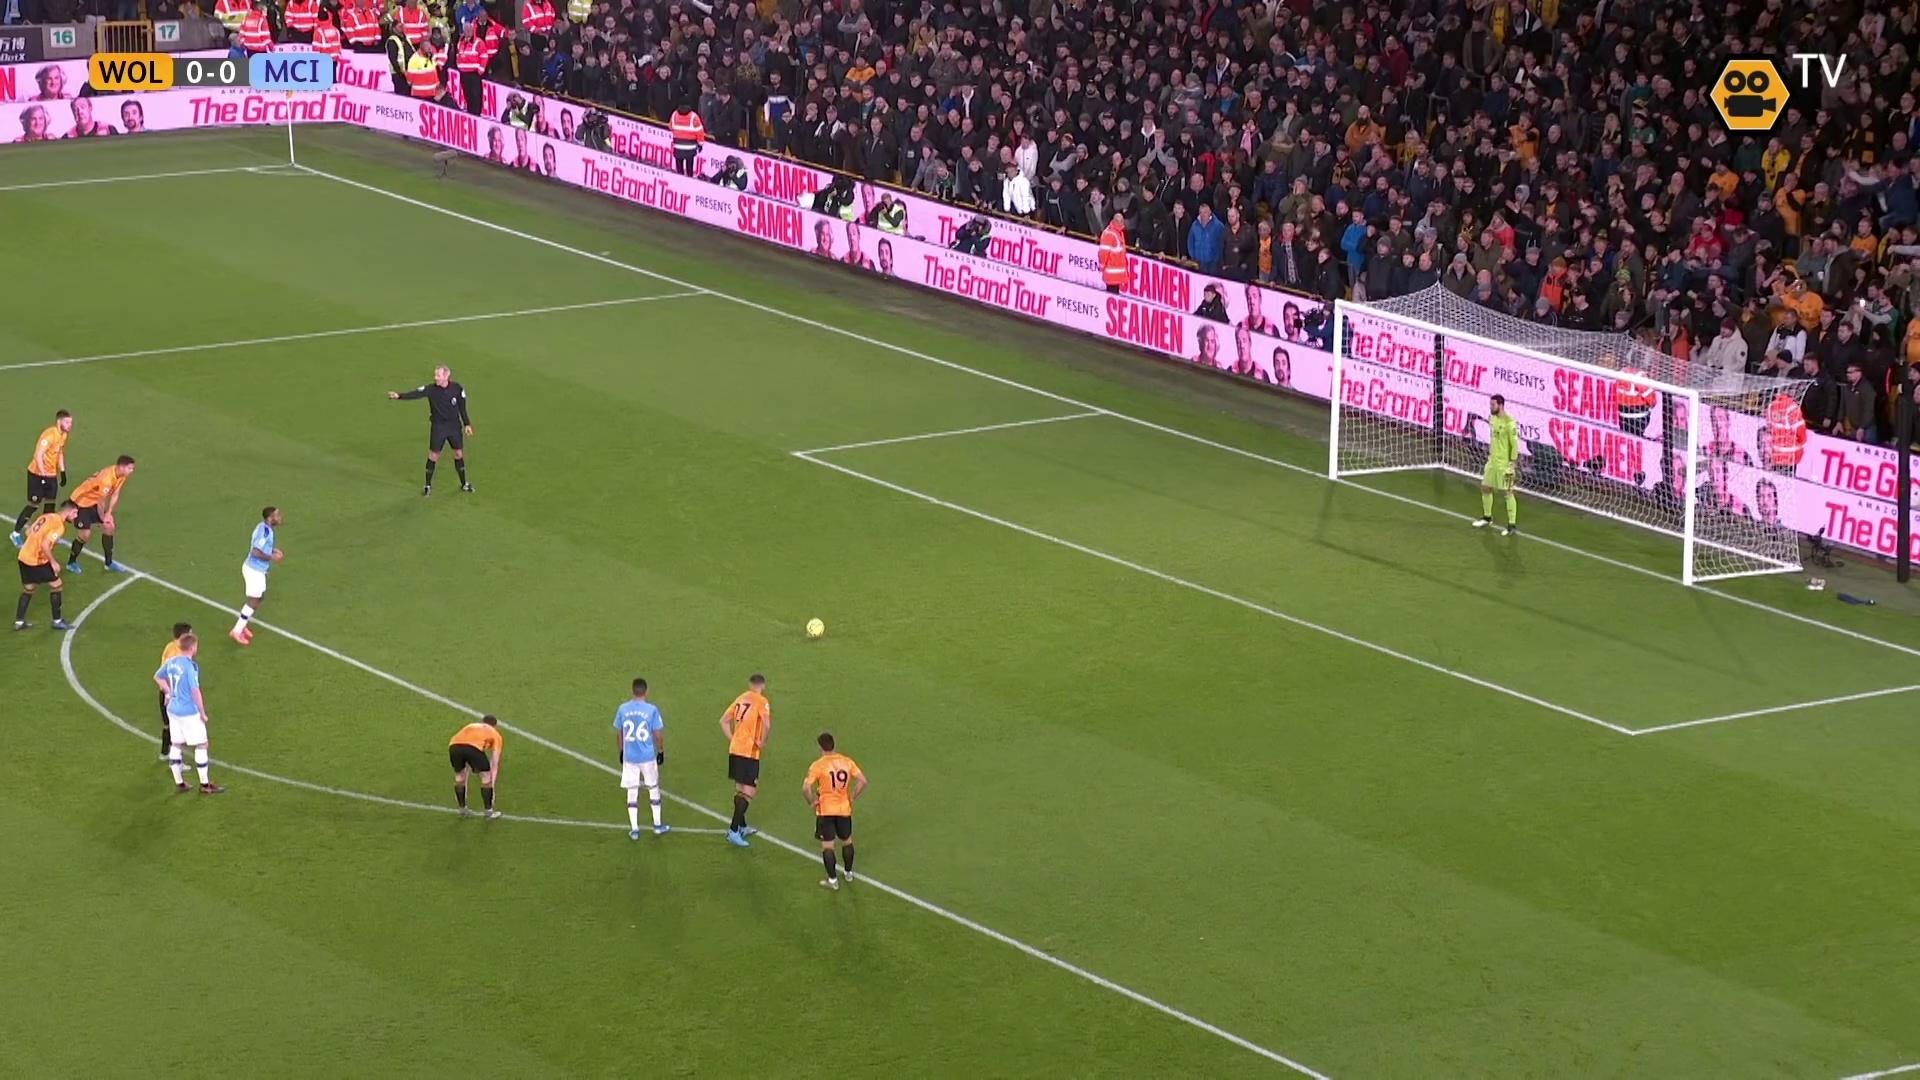ball: (804, 616, 827, 640)
